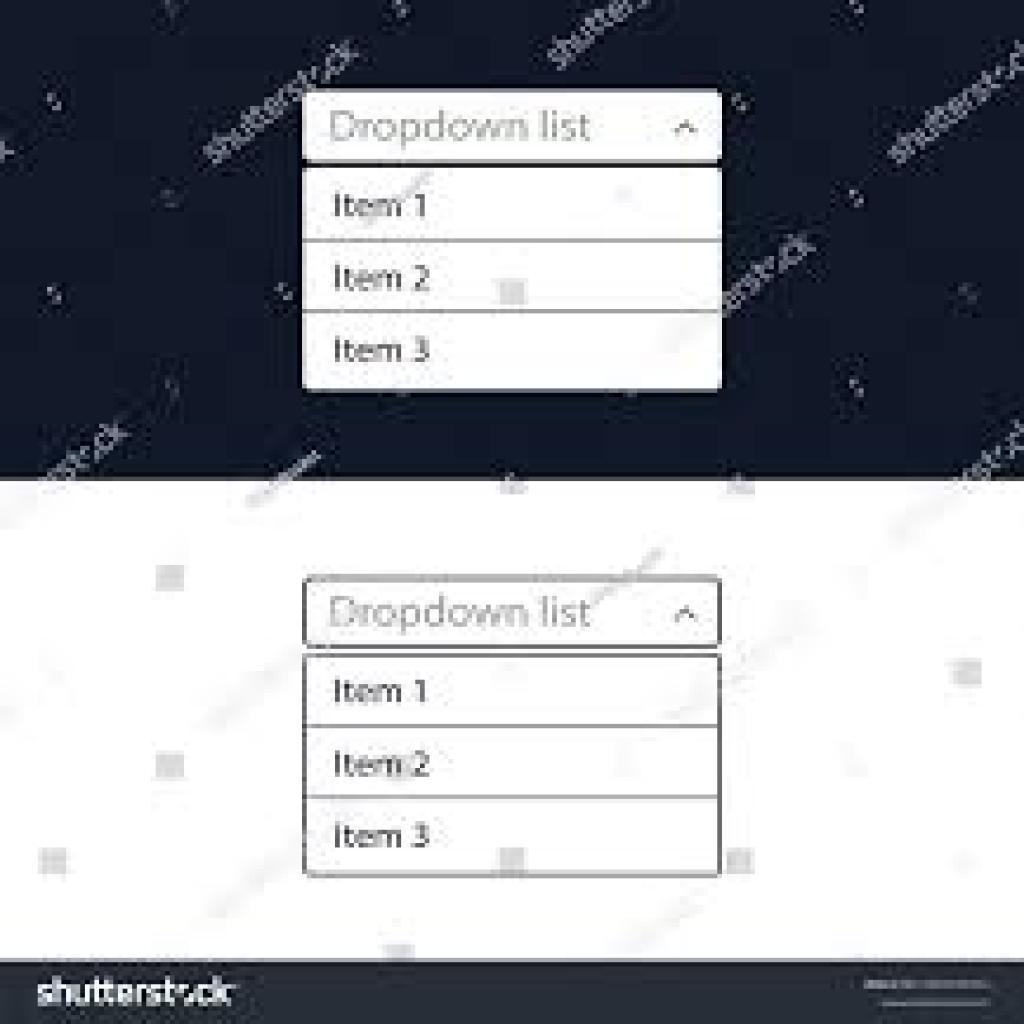dropdown: (306, 90, 723, 164), (305, 582, 723, 651)
